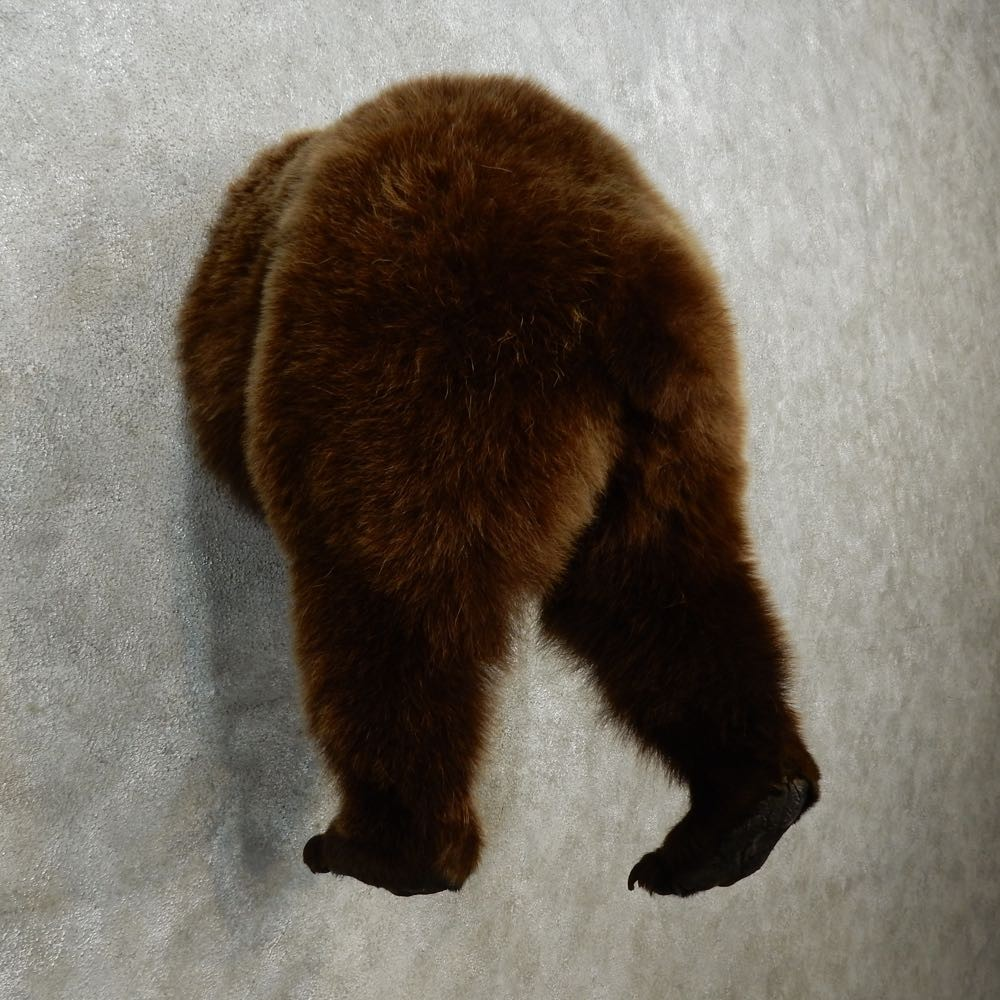bear: (181, 68, 828, 901)
